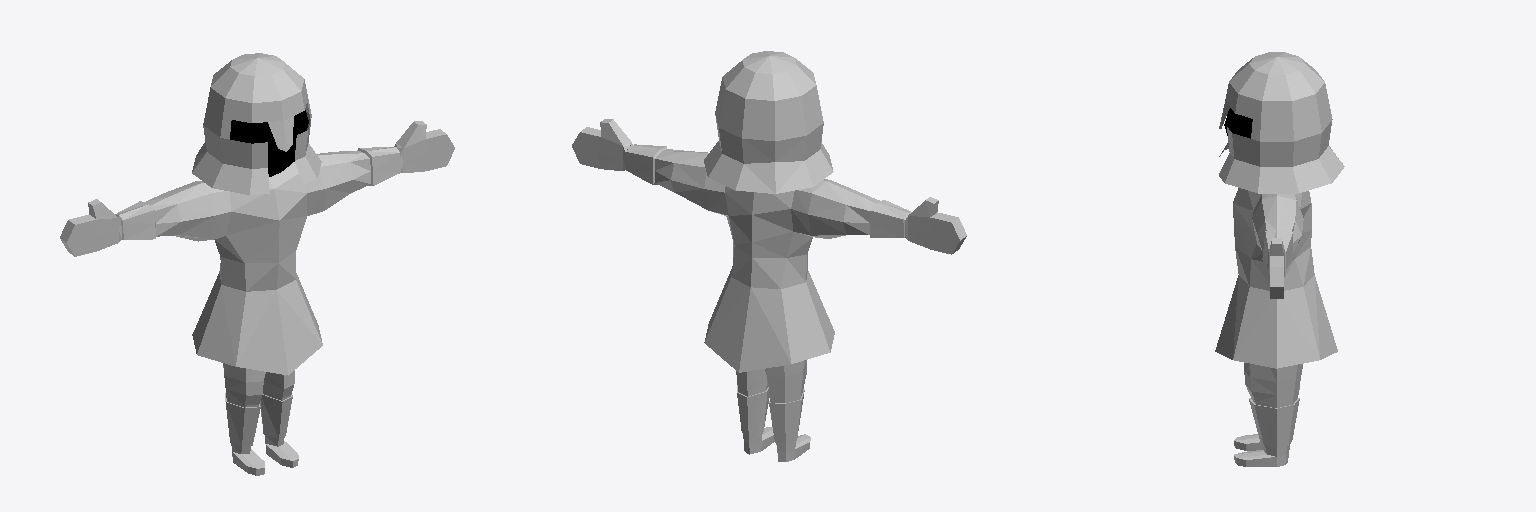
File: Warrior.obj
The picture shows the model from 3 angles: view 1: azimuth 30°, elevation 25°; view 2: azimuth 150°, elevation 25°; view 3: azimuth 270°, elevation 25°; orthographic projection.
Visible parts, largest first — view 1: Warrior_Sphere.005; view 2: Warrior_Sphere.005; view 3: Warrior_Sphere.005.
Part boxes in pixels (bbox=[...]): Warrior_Sphere.005: bbox=[60, 53, 454, 475]; Warrior_Sphere.005: bbox=[572, 51, 966, 461]; Warrior_Sphere.005: bbox=[1215, 52, 1344, 466].
Size of the model in its own units: 13.12 by 12.85 by 3.8.